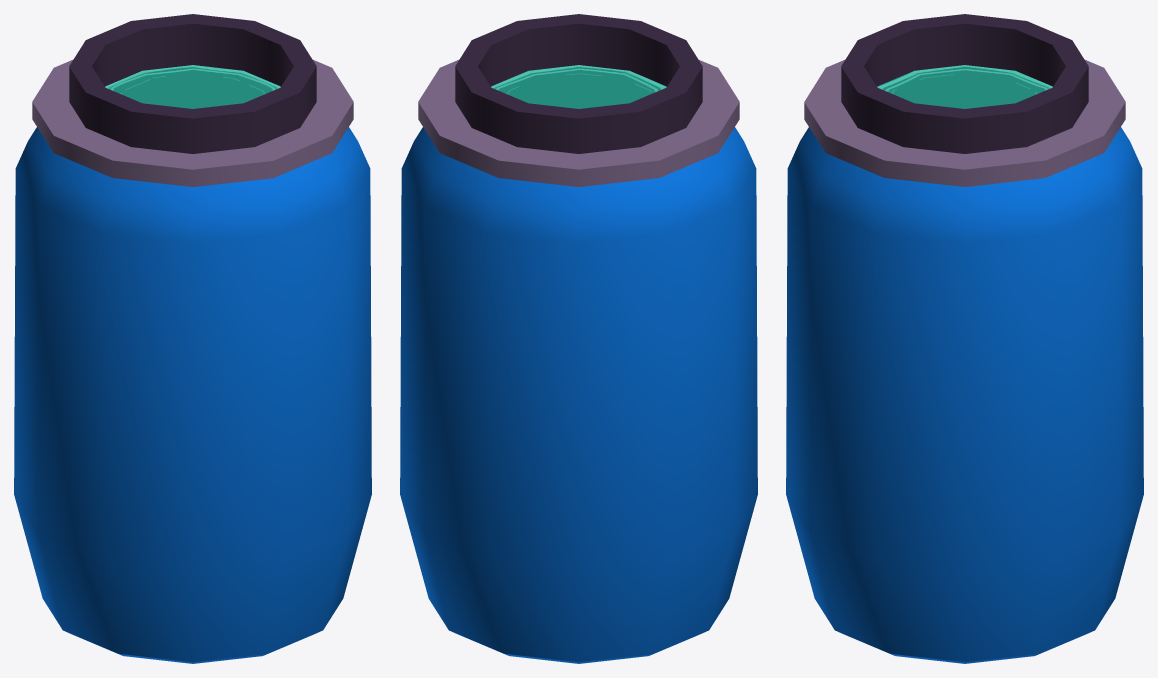
File: Barrel_.fbx
3 renders of one model, left to right at view 1: azimuth 30°, elevation 25°; view 2: azimuth 150°, elevation 25°; view 3: azimuth 270°, elevation 25°, orthographic.
Parts seen in each view (by area): view 1: Cylinder010; view 2: Cylinder010; view 3: Cylinder010.
Part boxes in pixels (left/top/right/bottom): Cylinder010: left=14, top=14, right=371, bottom=663; Cylinder010: left=400, top=14, right=757, bottom=663; Cylinder010: left=786, top=14, right=1143, bottom=663.
Bounding box in the file's own units: 0.8198 × 1.36 × 0.8198.
